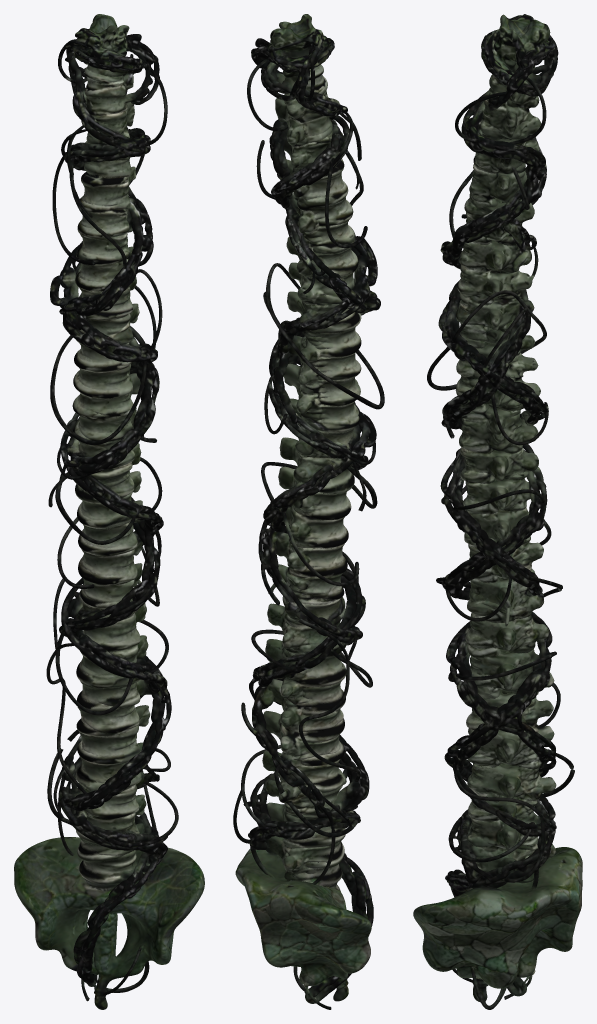
File: spine.sharp.glb
3 views of the same model, side by side, from view 1: azimuth 30°, elevation 25°; view 2: azimuth 150°, elevation 25°; view 3: azimuth 270°, elevation 25° (orthographic). The views are drawn at different scales.
Visible parts, largest first — view 1: tripo_node_a284b60c-024c-4648-8f81-7a53d1a2fc52; view 2: tripo_node_a284b60c-024c-4648-8f81-7a53d1a2fc52; view 3: tripo_node_a284b60c-024c-4648-8f81-7a53d1a2fc52.
Boxes of the visible parts, x1,y1,x2,y2 form: tripo_node_a284b60c-024c-4648-8f81-7a53d1a2fc52: (14,14,204,1009); tripo_node_a284b60c-024c-4648-8f81-7a53d1a2fc52: (233,14,384,1009); tripo_node_a284b60c-024c-4648-8f81-7a53d1a2fc52: (413,14,582,1009).
Size of the model in its own units: 0.1518 by 0.9809 by 0.1512.
Materials: 1 (1 with a texture image).
